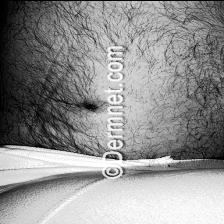Toxin: (72, 90, 100, 114)
